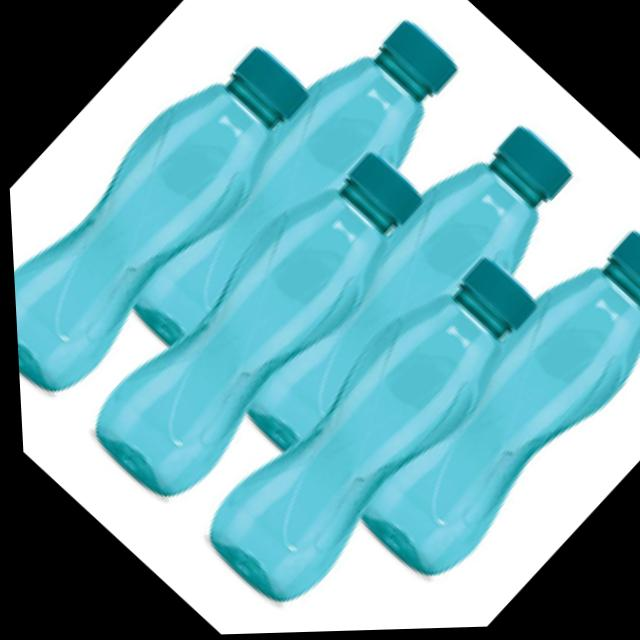plastic_water_bottles: (53, 125, 451, 517), (175, 236, 565, 620), (1, 17, 348, 416), (336, 217, 640, 586), (307, 0, 475, 165), (434, 120, 582, 265)
